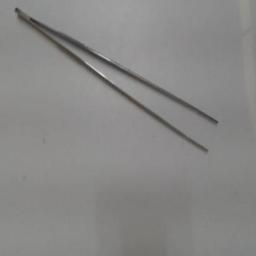DeBakey Dissector: (12, 2, 226, 162)
